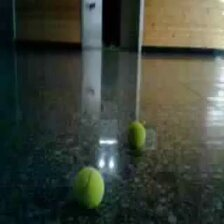tennis: (71, 167, 106, 209), (127, 121, 146, 151)
